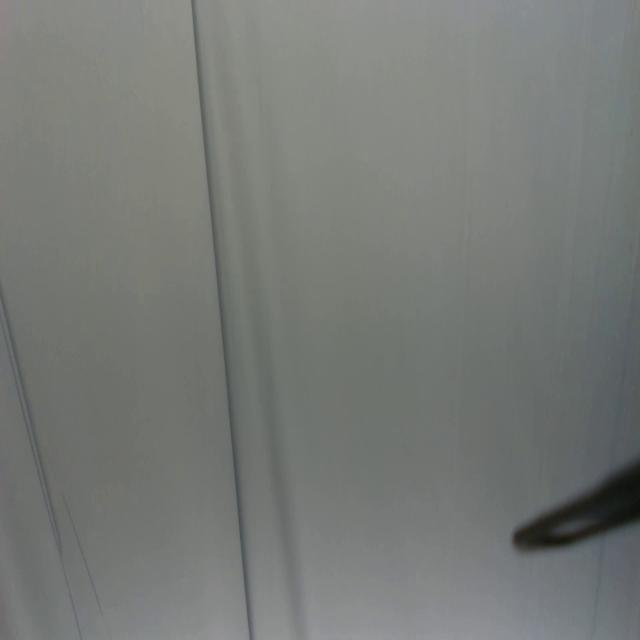crease: (189, 0, 256, 636), (1, 293, 84, 640), (64, 496, 109, 616)
